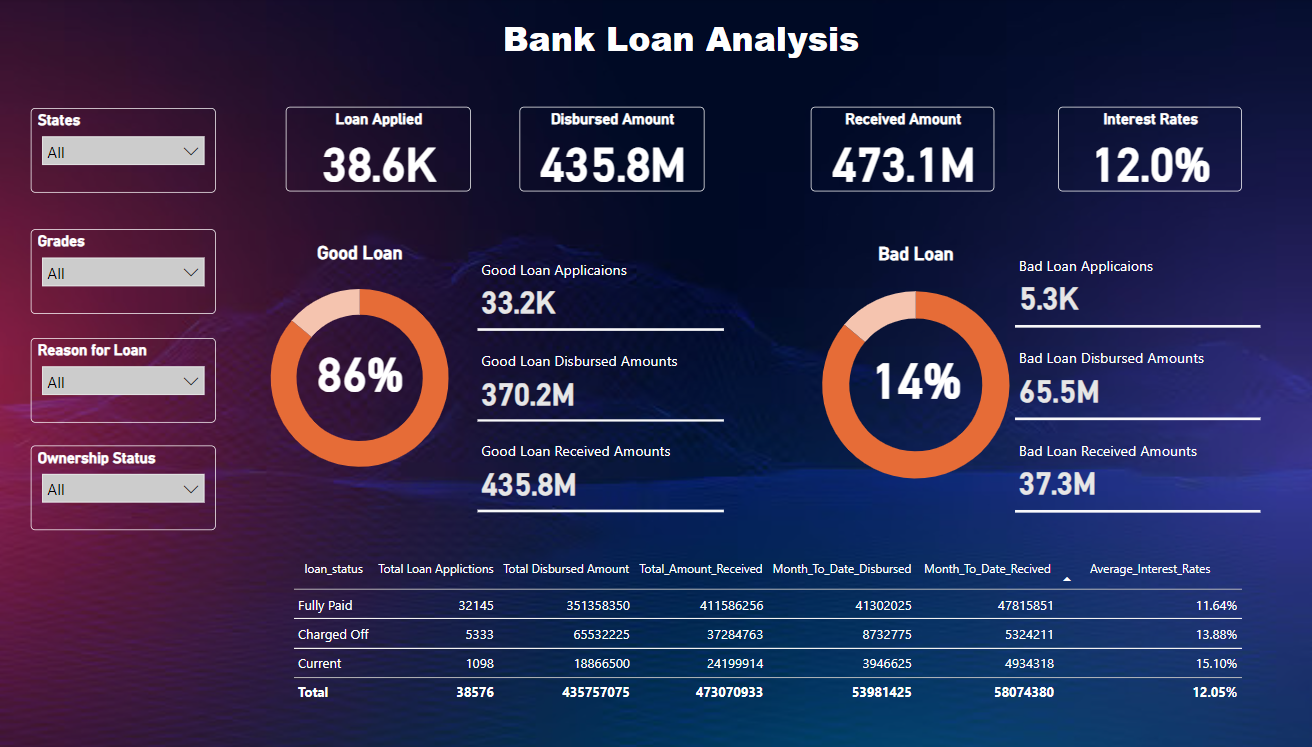

The page's visual inventory and layout, read from the dashboard file:
{"tool":"powerbi","page":{"name":"Bank_Loan_Analysis","canvas":[1480,850],"ordinal":0},"visuals":[{"type":"shape","box":[881.1,254.8,566.5,343],"z":0,"group":"g1"},{"type":"shape","box":[276.1,260.5,567,337.8],"z":0},{"type":"shape","box":[0,0,1500,95.2],"z":1000},{"type":"textbox","box":[492.6,13.4,567,67],"z":2000},{"type":"card","title":"Loan Applied","fields":{"Values":["public loan_details.Total Loan Applictions"]},"box":[324.5,122.4,207.8,95.4],"z":3000},{"type":"card","title":"Disbursed Amount","fields":{"Values":["public loan_details.Total Disbursed Amount"]},"box":[587.8,122.4,207.8,95.4],"z":4000},{"type":"card","title":"Received Amount","fields":{"Values":["public loan_details.Total_Amount_Received"]},"box":[915.2,122.4,206.4,95.4],"z":5000},{"type":"card","title":"Interest Rates","fields":{"Values":["public loan_details.Average_Interest_Rates"]},"box":[1192.8,122.4,206.4,95.4],"z":6000},{"type":"card","title":"Interest Rates","fields":{"Values":["public loan_details.Good Loan Percentage"]},"box":[324.5,382.9,168,69.7],"z":7000},{"type":"donutChart","title":"Good Loan","fields":{"Category":["public loan_details.Good Vs Bad Loan"],"Y":["public loan_details.Total Loan Applictions"]},"box":[266.2,274.7,284.7,283.2],"z":8000},{"type":"donutChart","title":"Bad Loan","fields":{"Category":["public loan_details.Good Vs Bad Loan"],"Y":["public loan_details.Total Loan Applictions"]},"box":[891,275.4,284.4,296.3],"z":8000,"group":"g1"},{"type":"group","id":"g1","title":"Group 2","box":[881.1,254.8,566.5,343],"z":8001,"group":"g2"},{"type":"group","id":"g2","title":"Group 1","box":[881.1,254.8,566.5,343],"z":9000},{"type":"cardVisual","fields":{"Data":["public loan_details.Bad Loan Applicaions","public loan_details.Bad Loan Disbursed Amounts","public loan_details.Bad Loan Received Amounts"]},"box":[1139.8,269.9,287,314.3],"z":9001,"group":"g1"},{"type":"card","title":"Interest Rates","fields":{"Values":["public loan_details.Bad Loan Percentage"]},"box":[965,382.9,136.6,84],"z":10000},{"type":"cardVisual","fields":{"Data":["public loan_details.Good Loan Applicaions","public loan_details.Good Loan Disbursed Amounts","public loan_details.Good Loan Received Amounts"]},"box":[535.1,275.4,287.2,309.5],"z":11000},{"type":"slicer","title":"States","fields":{"Values":["public loan_details.address_state"]},"box":[38.4,123.8,207.8,95.4],"z":13000},{"type":"slicer","title":"Grades","fields":{"Values":["public loan_details.grade"]},"box":[38.4,260.5,207.8,95.4],"z":14000},{"type":"slicer","title":"Reason for Loan","fields":{"Values":["public loan_details.purpose"]},"box":[38.4,382.9,207.8,95.4],"z":15000},{"type":"slicer","title":"Ownership Status","fields":{"Values":["public loan_details.home_ownership"]},"box":[38.4,502.4,207.8,95.4],"z":16000},{"type":"shape","box":[311.7,610.6,1104.5,214.9],"z":16001},{"type":"tableEx","fields":{"Values":["public loan_details.loan_status","public loan_details.Total Loan Applictions","public loan_details.Total Disbursed Amount","public loan_details.Total_Amount_Received","public loan_details.Month_To_Date_Disbursed","public loan_details.Month_To_Date_Recived","public loan_details.Average_Interest_Rates"]},"box":[327.4,620.6,1088.9,189.3],"z":16002}]}

Visuals, with their boxes in screenshot pixels (x1, y1, x2, y2), scaled from the page's 1480x850 canvas onto the 1312x747 screenshot:
shape: x1=781 y1=224 x2=1283 y2=525
shape: x1=245 y1=229 x2=747 y2=526
shape: x1=0 y1=0 x2=1311 y2=84
textbox: x1=437 y1=12 x2=939 y2=71
"Loan Applied" card: x1=288 y1=108 x2=472 y2=191
"Disbursed Amount" card: x1=521 y1=108 x2=705 y2=191
"Received Amount" card: x1=811 y1=108 x2=994 y2=191
"Interest Rates" card: x1=1057 y1=108 x2=1240 y2=191
"Interest Rates" card: x1=288 y1=337 x2=437 y2=398
"Good Loan" donutChart: x1=236 y1=241 x2=488 y2=490
"Bad Loan" donutChart: x1=790 y1=242 x2=1042 y2=502
"Group 2" group: x1=781 y1=224 x2=1283 y2=525
"Group 1" group: x1=781 y1=224 x2=1283 y2=525
cardVisual - public loan_details.Bad Loan Applicaions x public loan_details.Bad Loan Disbursed Amounts: x1=1010 y1=237 x2=1265 y2=513
"Interest Rates" card: x1=855 y1=337 x2=977 y2=410
cardVisual - public loan_details.Good Loan Applicaions x public loan_details.Good Loan Disbursed Amounts: x1=474 y1=242 x2=729 y2=514
"States" slicer: x1=34 y1=109 x2=218 y2=193
"Grades" slicer: x1=34 y1=229 x2=218 y2=313
"Reason for Loan" slicer: x1=34 y1=337 x2=218 y2=420
"Ownership Status" slicer: x1=34 y1=442 x2=218 y2=525
shape: x1=276 y1=537 x2=1255 y2=725
tableEx - public loan_details.loan_status x public loan_details.Total Loan Applictions: x1=290 y1=545 x2=1256 y2=712
